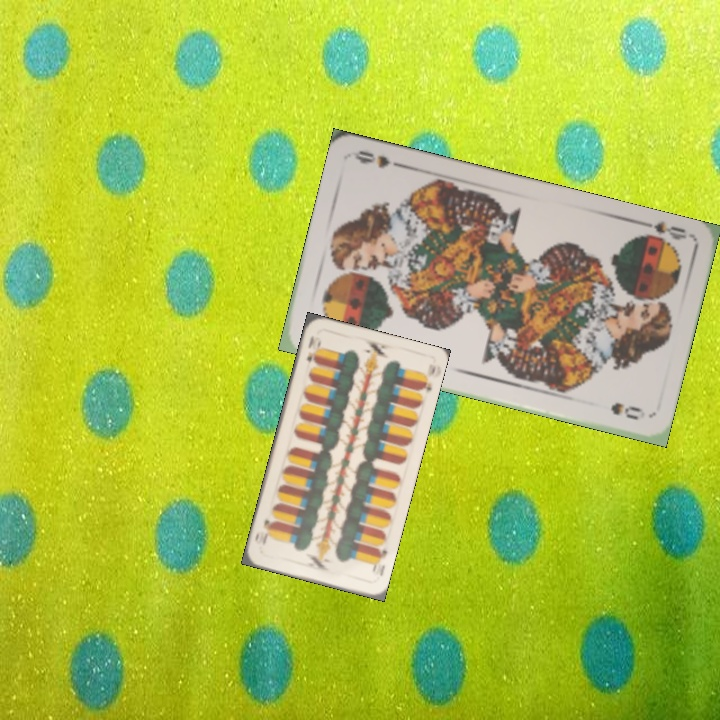E10: (302, 331, 324, 367), (368, 544, 390, 575)
SO: (631, 216, 689, 248)
